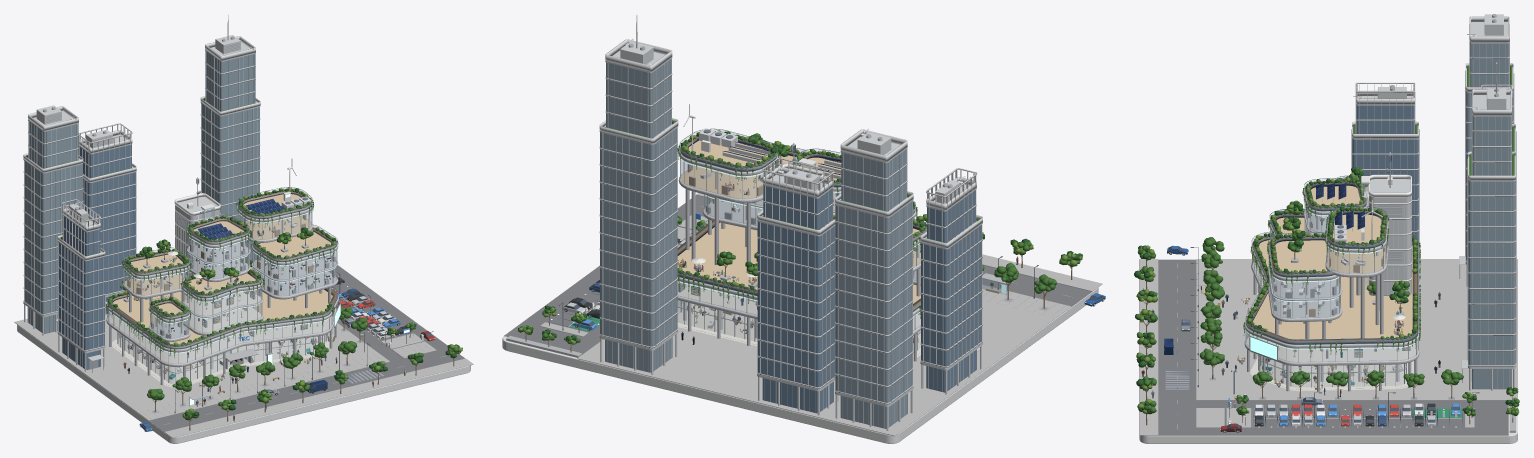
Rendered from smart_building.glb.
3 views of the same model, side by side, from view 1: azimuth 30°, elevation 25°; view 2: azimuth 150°, elevation 25°; view 3: azimuth 270°, elevation 25° (orthographic). The views are drawn at different scales.
Parts seen in each view (by area): view 1: bake-static_site, bake-static_building, glass-static_building-glass, vbake-static_site, vbake-static_building, vbake-static_building-planter, led-static_building-led_cyan, vbake-static_building-frame, vbake-hot-renewable-energy; view 2: bake-static_site, vbake-static_site, bake-static_building, glass-static_building-glass, vbake-static_building, vbake-static_building-planter, bake-hot-renewable-energy; view 3: bake-static_site, bake-static_building, vbake-static_site, glass-static_building-glass, vbake-static_building, vbake-static_building-planter, vbake-static_building-frame, vbake-hot-renewable-energy, led-static_building-led_cyan, vbake-hot-smart-parking.
Boxes of the visible parts, x1,y1,x2,y2 form: bake-static_site: (14,35,473,443); bake-static_building: (106,190,338,387); glass-static_building-glass: (107,187,337,383); vbake-static_site: (24,15,462,430); vbake-static_building: (106,187,338,382); vbake-static_building-planter: (107,191,337,349); led-static_building-led_cyan: (109,211,336,353); vbake-static_building-frame: (107,187,338,345); vbake-hot-renewable-energy: (197,167,291,239); bake-static_site: (502,39,1102,443); vbake-static_site: (518,15,1082,430); bake-static_building: (677,136,926,361); glass-static_building-glass: (678,129,926,349); vbake-static_building: (677,130,926,350); vbake-static_building-planter: (677,135,926,311); bake-hot-renewable-energy: (722,143,841,179); bake-static_site: (1139,14,1517,443); bake-static_building: (1244,174,1419,391); vbake-static_site: (1134,14,1519,429); glass-static_building-glass: (1245,176,1418,387); vbake-static_building: (1243,167,1420,387); vbake-static_building-planter: (1246,181,1418,344); vbake-static_building-frame: (1245,175,1418,339); vbake-hot-renewable-energy: (1316,183,1373,239); led-static_building-led_cyan: (1246,195,1417,349); vbake-hot-smart-parking: (1228,394,1462,427).
Bounding box in the file's own units: 92.15 × 75.9 × 81.5.
